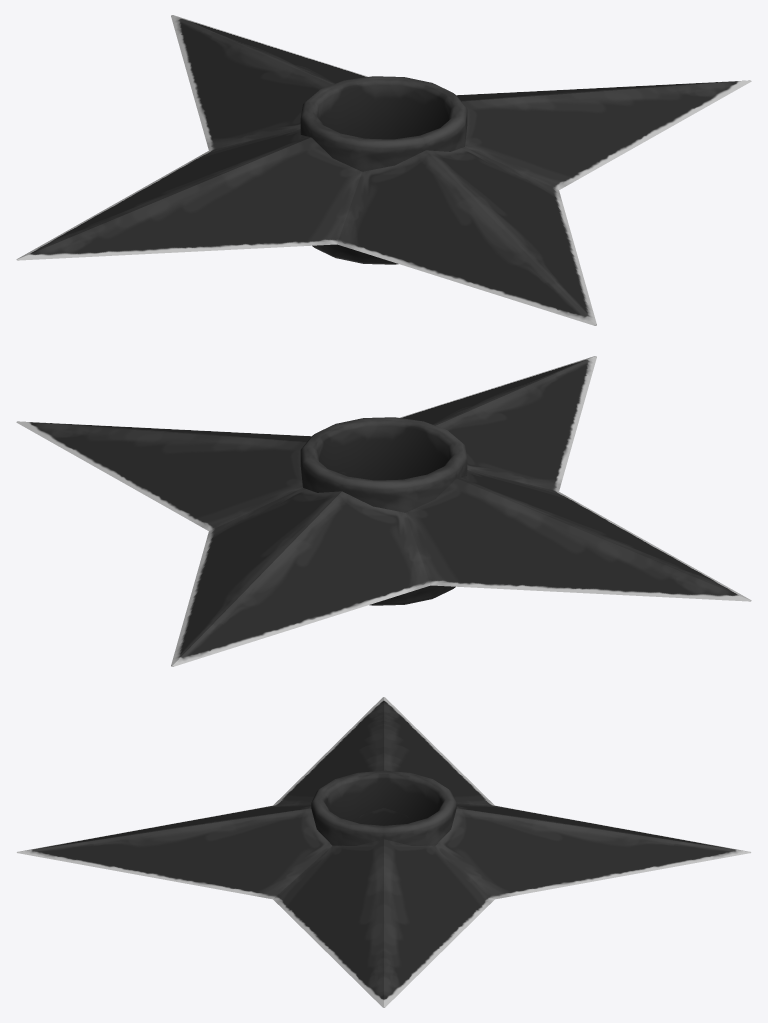
Rendered from Shuriken2.fbx.
3 renders of one model, top to bottom at view 1: azimuth 30°, elevation 25°; view 2: azimuth 150°, elevation 25°; view 3: azimuth 270°, elevation 25°, orthographic. The views are drawn at different scales.
Parts seen in each view (by area): view 1: lp_shuriken_e; view 2: lp_shuriken_e; view 3: lp_shuriken_e.
Part boxes in pixels (x1=…): lp_shuriken_e: x1=16, y1=15, x2=751, y2=325; lp_shuriken_e: x1=16, y1=356, x2=751, y2=666; lp_shuriken_e: x1=17, y1=697, x2=750, y2=1007.
Size of the model in its own units: 1018 by 160 by 1018.
